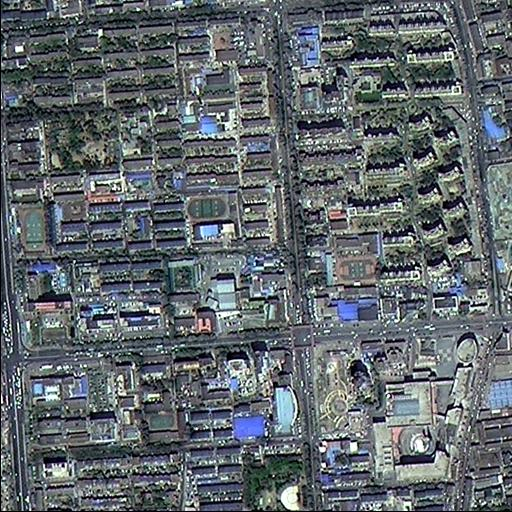school: (308, 231, 381, 295), (183, 189, 240, 250), (8, 175, 47, 257), (145, 410, 181, 445)
